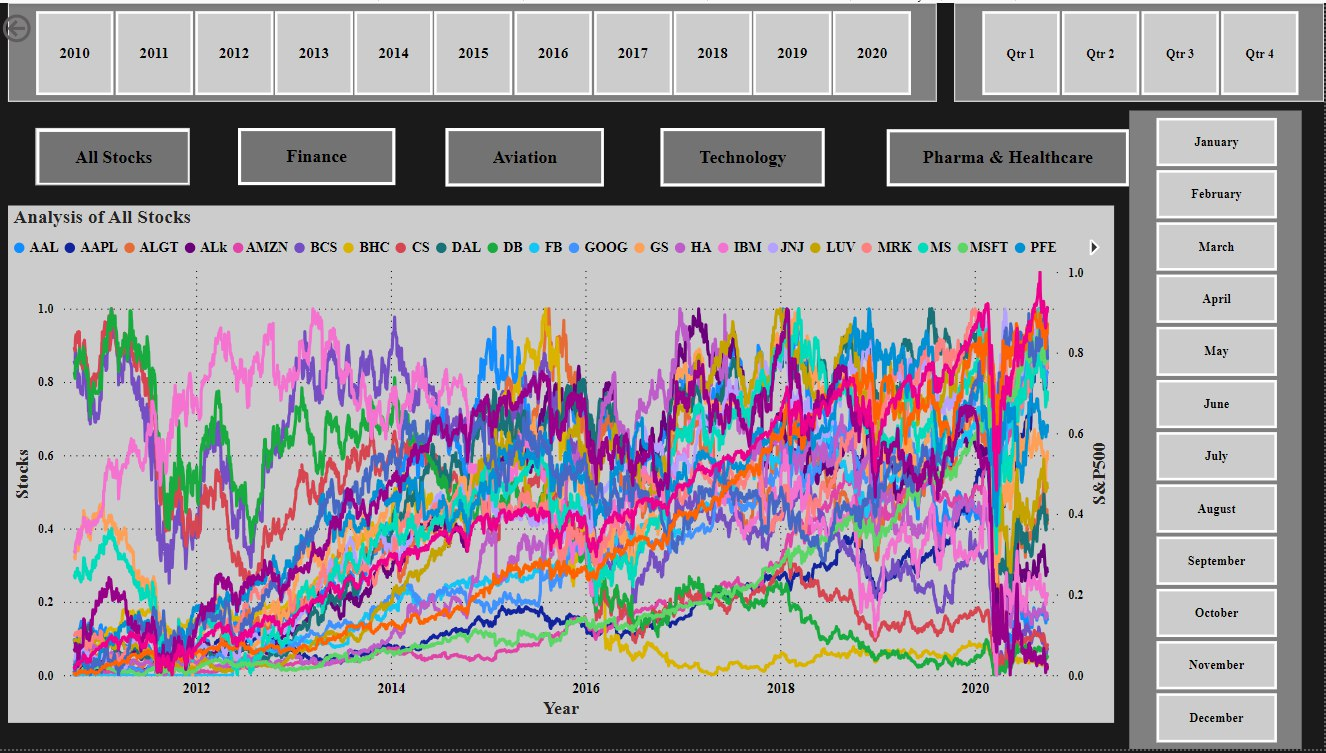

What the dashboard file says about the page in this screenshot:
{"tool":"powerbi","page":{"name":"10 years","canvas":[1280,720],"ordinal":1},"visuals":[{"type":"slicer","fields":{"Values":["Normalized.Date.Variation.Date Hierarchy.Year"]},"box":[9.6,0,896.1,95.3],"z":0},{"type":"slicer","fields":{"Values":["Normalized.Date.Variation.Date Hierarchy.Quarter"]},"box":[922.6,0,357,95.3],"z":1000},{"type":"slicer","fields":{"Values":["Normalized.Date.Variation.Date Hierarchy.Month"]},"box":[1091.5,103.7,166.4,616.3],"z":2000},{"type":"actionButton","box":[36.3,120.9,149.1,55.1],"z":3000},{"type":"actionButton","box":[0,0,36.2,48.2],"z":4000},{"type":"actionButton","box":[231.1,120.9,151.8,55.1],"z":5000},{"type":"actionButton","box":[431.2,120.9,153.1,56.4],"z":6000},{"type":"actionButton","box":[639.5,120.9,158.5,56.4],"z":7000},{"type":"actionButton","box":[840.6,121.8,232.8,55.5],"z":8000},{"type":"lineChart","title":"Analysis of All Stocks","fields":{"Y2":["Avg(Normalized.S&P500)"],"Y":["Avg(Normalized.AAL)","Avg(Normalized.AAPL)","Avg(Normalized.ALGT)","Avg(Normalized.ALk)","Avg(Normalized.AMZN)","Avg(Normalized.BCS)","Avg(Normalized.BHC)","Avg(Normalized.CS)","Avg(Normalized.DAL)","Avg(Normalized.DB)","Avg(Normalized.FB)","Avg(Normalized.GOOG)"],"Category":["Normalized.Date.Variation.Date Hierarchy.Year","Normalized.Date.Variation.Date Hierarchy.Quarter","Normalized.Date.Variation.Date Hierarchy.Month","Normalized.Date.Variation.Date Hierarchy.Day"]},"box":[9.6,195.4,1067.3,499.3],"z":13000}]}

Visuals, with their boxes in screenshot pixels (x1, y1, x2, y2), scaled from the page's 1280x720 canvas onto the 1326x753 screenshot:
slicer - Normalized.Date.Variation.Date Hierarchy.Year: [left=10, top=0, right=938, bottom=100]
slicer - Normalized.Date.Variation.Date Hierarchy.Quarter: [left=956, top=0, right=1325, bottom=100]
slicer - Normalized.Date.Variation.Date Hierarchy.Month: [left=1131, top=108, right=1303, bottom=752]
actionButton: [left=38, top=126, right=192, bottom=184]
actionButton: [left=0, top=0, right=38, bottom=50]
actionButton: [left=239, top=126, right=397, bottom=184]
actionButton: [left=447, top=126, right=605, bottom=185]
actionButton: [left=662, top=126, right=827, bottom=185]
actionButton: [left=871, top=127, right=1112, bottom=185]
"Analysis of All Stocks" lineChart: [left=10, top=204, right=1116, bottom=727]
